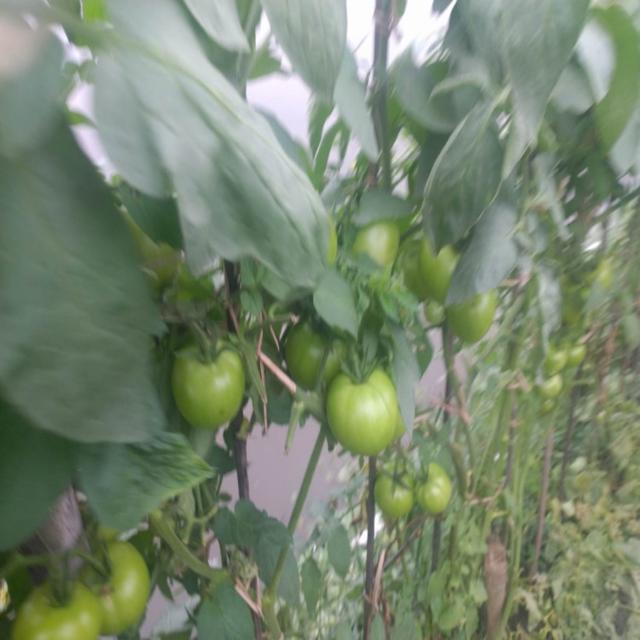tomato: (330, 368, 404, 460), (177, 346, 247, 428), (88, 542, 146, 636), (19, 582, 107, 640), (287, 326, 329, 383), (414, 461, 454, 517), (375, 465, 415, 515), (456, 302, 500, 338), (423, 246, 452, 299), (361, 225, 400, 260), (590, 259, 616, 285), (543, 374, 568, 399), (550, 348, 568, 380), (421, 299, 443, 323), (570, 345, 590, 365)
